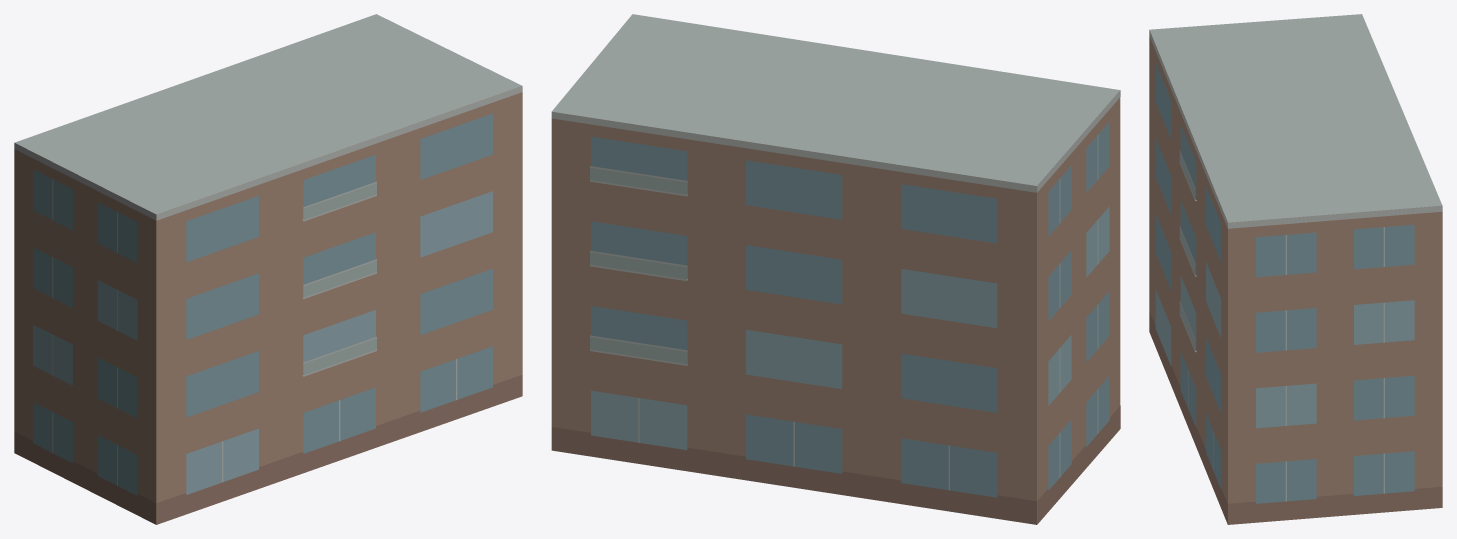
File: survey-upis-32702624.glb
The picture shows the model from 3 angles, left to right: view 1: azimuth 30°, elevation 25°; view 2: azimuth 150°, elevation 25°; view 3: azimuth 270°, elevation 25°; orthographic projection. The views are drawn at different scales.
Parts seen in each view (by area): view 1: survey-upis-32702624.tmp; view 2: survey-upis-32702624.tmp; view 3: survey-upis-32702624.tmp.
Boxes of the visible parts, x1,y1,x2,y2 form: survey-upis-32702624.tmp: [14, 14, 522, 524]; survey-upis-32702624.tmp: [551, 14, 1120, 524]; survey-upis-32702624.tmp: [1149, 14, 1442, 524].
Bounding box in the file's own units: 18.09 × 12.2 × 10.74.
